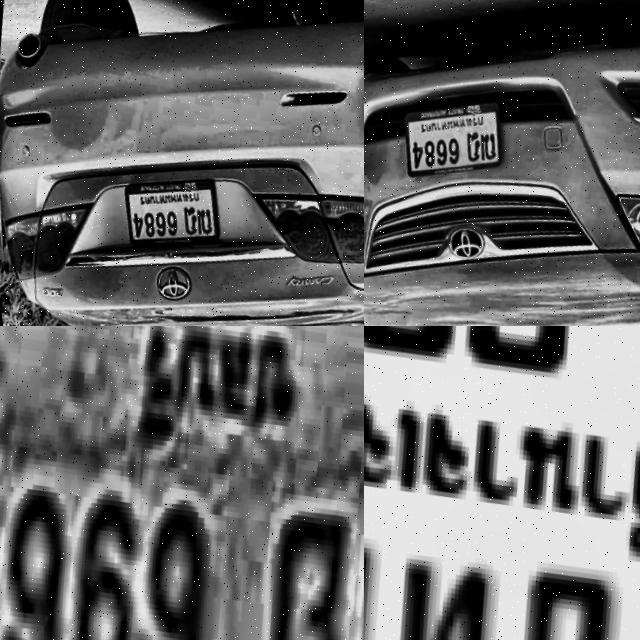license-plate: (0, 326, 364, 640), (364, 326, 640, 640), (386, 86, 510, 196), (107, 166, 222, 265)
